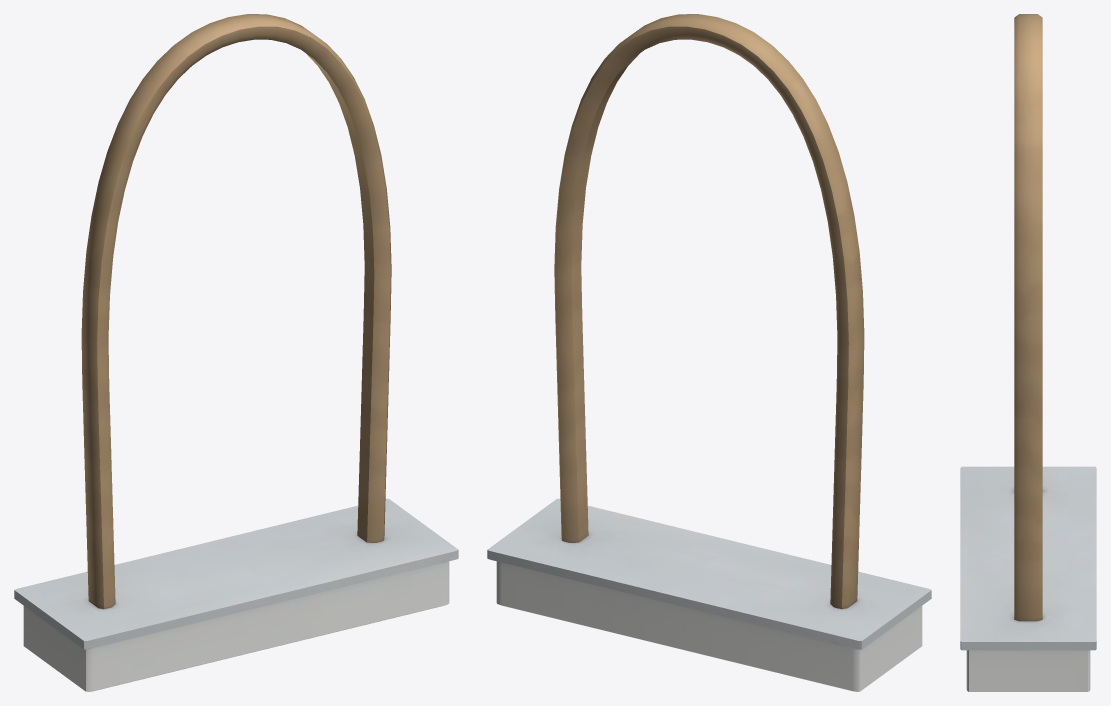
Rendered from welcome_board_frame.glb.
3 views of the same model, side by side, from view 1: azimuth 30°, elevation 25°; view 2: azimuth 150°, elevation 25°; view 3: azimuth 270°, elevation 25° (orthographic). The views are drawn at different scales.
Visible parts, largest first — view 1: welcome_board_frame; view 2: welcome_board_frame; view 3: welcome_board_frame.
Part boxes in pixels (x1,y1,x2,y2): welcome_board_frame: (14, 14, 458, 691); welcome_board_frame: (487, 14, 931, 691); welcome_board_frame: (960, 14, 1096, 691).
Size of the model in its own units: 1.34 by 2.07 by 0.44.
Materials: 1 (1 with a texture image).
